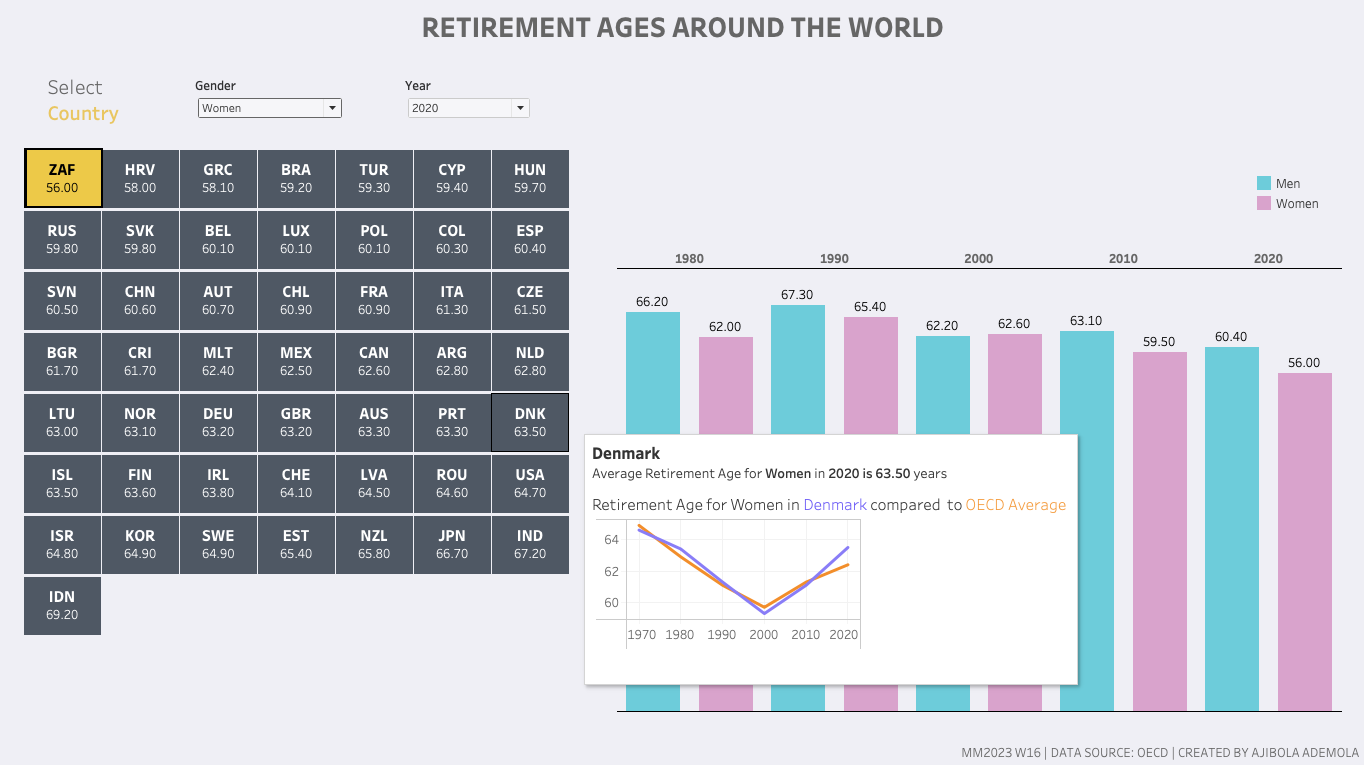

This screenshot's page, from the dashboard's own definition file:
{"tool":"tableau","page":{"name":"Retirement Ages ","canvas":[1366,768],"ordinal":0},"visuals":[{"type":"text","box":[0,0,1366,52]},{"type":"blank","box":[0,52,593,10]},{"type":"blank","box":[593,52,772.9,107]},{"type":"text","box":[0,62,170,75]},{"type":"parameter","param":"[Parameters].[Parameter 2]","box":[170,62,195,75]},{"type":"parameter","param":"[Parameters].[Parameter 3]","box":[365,62,228,75]},{"type":"worksheet","title":"Tiles","mark":"Bar","rows":["Calculation_1843520386308153351"],"box":[0,137,593,522]},{"type":"blank","box":[593,159,647,65]},{"type":"legend","title":"Bar","param":"[federated.0yqfo2n1dfeo60124ppkj1j21xq7].[none:Gender:nk]","box":[1240,159,125.9,65]},{"type":"worksheet","title":"Bar","mark":"Bar","rows":["Average Age"],"cols":["Gender"],"box":[593,224,772.9,512]},{"type":"blank","box":[0,659,593,77]},{"type":"text","box":[0,736,1366,32]}]}

Visuals, with their boxes in screenshot pixels (x1, y1, x2, y2), scaled from the page's 1366x768 canvas onto the 1364x765 screenshot:
text: rect(0, 0, 1363, 52)
blank: rect(0, 52, 592, 62)
blank: rect(592, 52, 1363, 158)
text: rect(0, 62, 170, 136)
parameter: rect(170, 62, 364, 136)
parameter: rect(364, 62, 592, 136)
"Tiles" worksheet (Bar marks): rect(0, 136, 592, 656)
blank: rect(592, 158, 1238, 223)
"Bar" legend: rect(1238, 158, 1363, 223)
"Bar" worksheet (Bar marks): rect(592, 223, 1363, 733)
blank: rect(0, 656, 592, 733)
text: rect(0, 733, 1363, 764)
